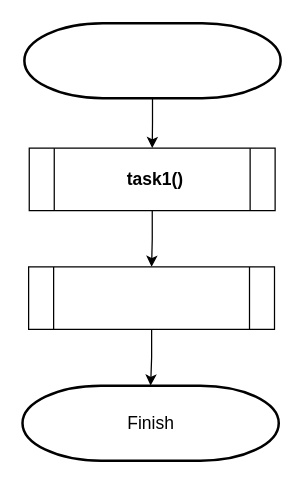
The diagram is 304 pixels wide and 483 high, and some of its shapes have lost their labels. The shapes that lost their labels are listed below. From the top down, each one's box as (x1, y1, x2, y2) in pixels, then its label:
(22, 21, 281, 99): Begin
(27, 266, 274, 329): task2()
